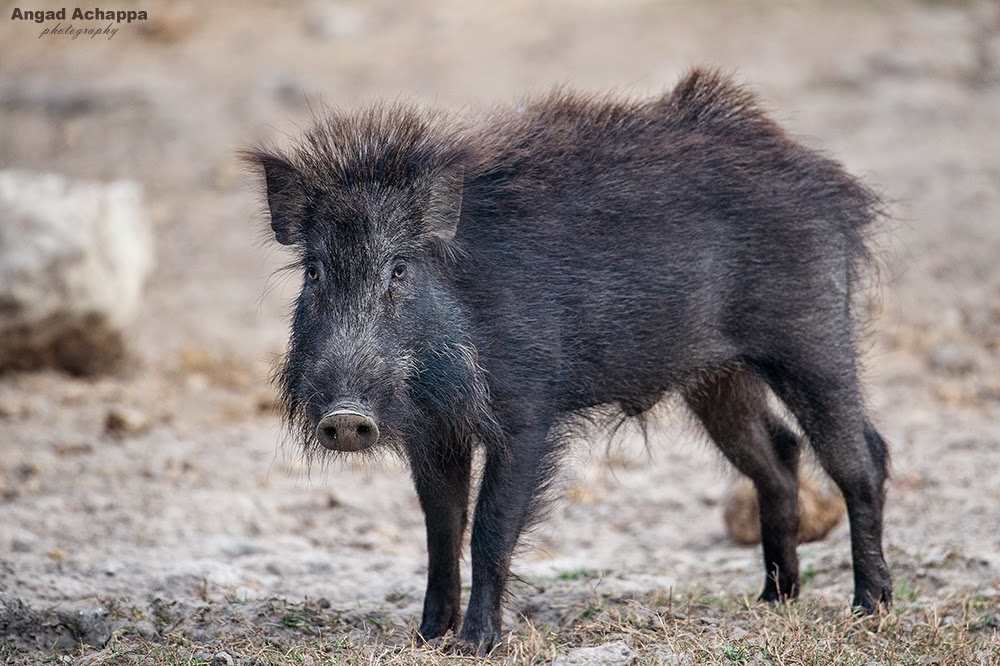wild boar: (220, 63, 951, 652)
